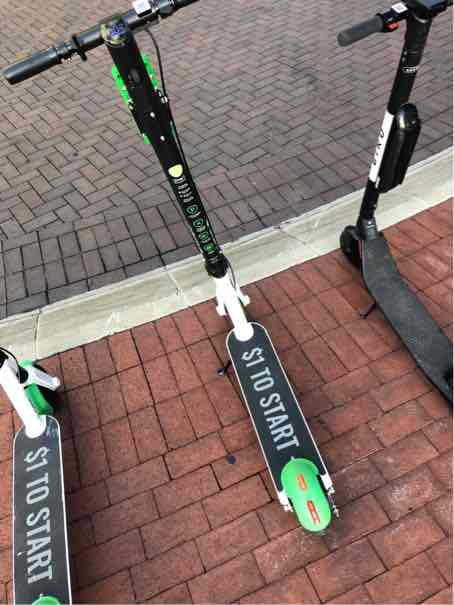scooter: (1, 15, 341, 587)
